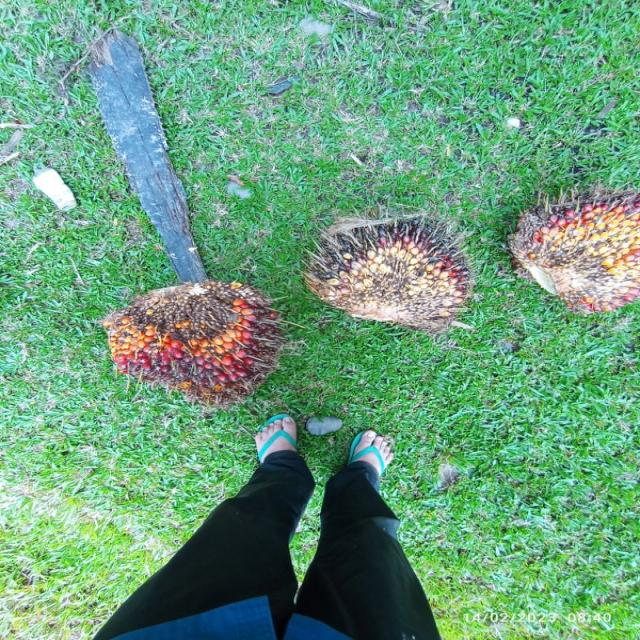fraksi 00: (309, 208, 477, 327)
fraksi 1: (503, 192, 637, 319)
fraksi 3: (102, 287, 282, 407)
